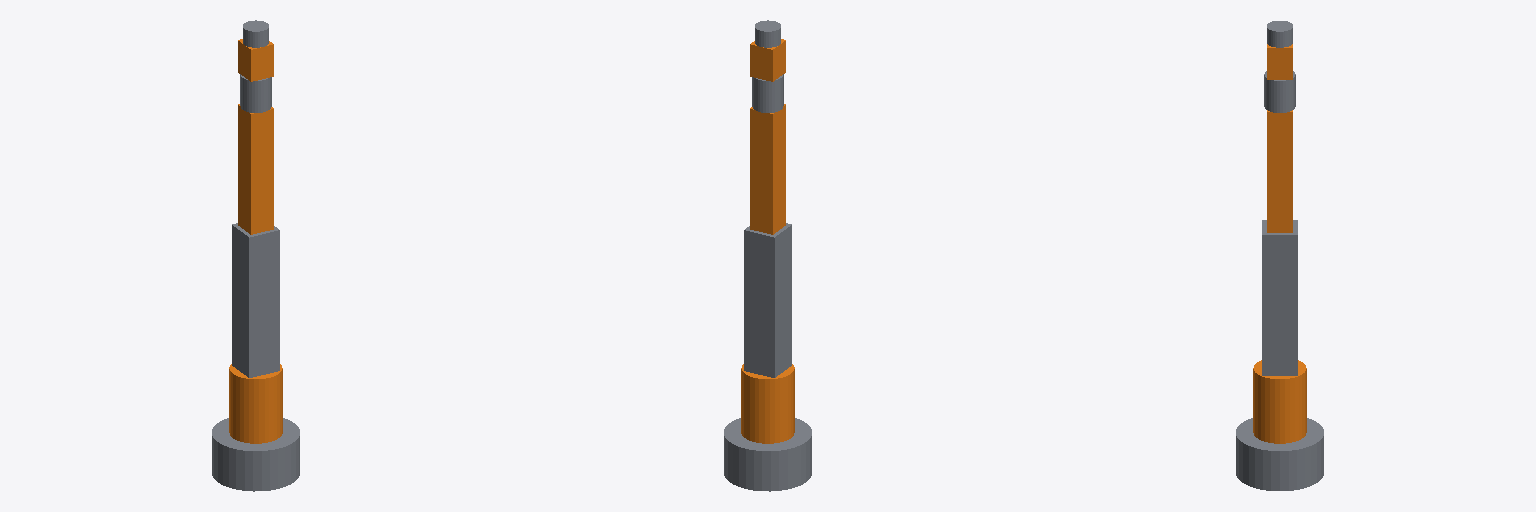
robot.urdf — six_dof_arm:
<?xml version="1.0"?>
<!-- Six-DOF revolute arm (load with "fixed base"). -->
<robot name="six_dof_arm">
  <material name="grey"><color rgba="0.55 0.57 0.60 1"/></material>
  <material name="orange"><color rgba="0.95 0.55 0.15 1"/></material>

  <link name="base_link">
    <inertial><origin xyz="0 0 0.05"/><mass value="5.0"/>
      <inertia ixx="0.02" ixy="0" ixz="0" iyy="0.02" iyz="0" izz="0.03"/></inertial>
    <visual><origin xyz="0 0 0.05"/><geometry><cylinder radius="0.1" length="0.1"/></geometry><material name="grey"/></visual>
    <collision><origin xyz="0 0 0.05"/><geometry><cylinder radius="0.1" length="0.1"/></geometry></collision>
  </link>

  <link name="shoulder_link">
    <inertial><origin xyz="0 0 0.08"/><mass value="2.0"/>
      <inertia ixx="0.006" ixy="0" ixz="0" iyy="0.006" iyz="0" izz="0.004"/></inertial>
    <visual><origin xyz="0 0 0.08"/><geometry><cylinder radius="0.06" length="0.16"/></geometry><material name="orange"/></visual>
    <collision><origin xyz="0 0 0.08"/><geometry><cylinder radius="0.06" length="0.16"/></geometry></collision>
  </link>
  <joint name="joint1" type="revolute">
    <parent link="base_link"/><child link="shoulder_link"/>
    <origin xyz="0 0 0.1"/><axis xyz="0 0 1"/>
    <limit lower="-3.1416" upper="3.1416" effort="80" velocity="2.0"/>
    <dynamics damping="0.5"/>
  </joint>

  <link name="upper_arm_link">
    <inertial><origin xyz="0 0 0.175"/><mass value="2.0"/>
      <inertia ixx="0.022" ixy="0" ixz="0" iyy="0.022" iyz="0" izz="0.002"/></inertial>
    <visual><origin xyz="0 0 0.175"/><geometry><box size="0.08 0.08 0.35"/></geometry><material name="grey"/></visual>
    <collision><origin xyz="0 0 0.175"/><geometry><box size="0.08 0.08 0.35"/></geometry></collision>
  </link>
  <joint name="joint2" type="revolute">
    <parent link="shoulder_link"/><child link="upper_arm_link"/>
    <origin xyz="0 0 0.16"/><axis xyz="0 1 0"/>
    <limit lower="-2.0" upper="2.0" effort="80" velocity="2.0"/>
    <dynamics damping="0.5"/>
  </joint>

  <link name="forearm_link">
    <inertial><origin xyz="0 0 0.15"/><mass value="1.2"/>
      <inertia ixx="0.01" ixy="0" ixz="0" iyy="0.01" iyz="0" izz="0.001"/></inertial>
    <visual><origin xyz="0 0 0.15"/><geometry><box size="0.06 0.06 0.30"/></geometry><material name="orange"/></visual>
    <collision><origin xyz="0 0 0.15"/><geometry><box size="0.06 0.06 0.30"/></geometry></collision>
  </link>
  <joint name="joint3" type="revolute">
    <parent link="upper_arm_link"/><child link="forearm_link"/>
    <origin xyz="0 0 0.35"/><axis xyz="0 1 0"/>
    <limit lower="-2.5" upper="2.5" effort="40" velocity="2.5"/>
    <dynamics damping="0.3"/>
  </joint>

  <link name="wrist_1_link">
    <inertial><origin xyz="0 0 0.04"/><mass value="0.5"/>
      <inertia ixx="0.0005" ixy="0" ixz="0" iyy="0.0005" iyz="0" izz="0.0004"/></inertial>
    <visual><origin xyz="0 0 0.04"/><geometry><cylinder radius="0.035" length="0.08"/></geometry><material name="grey"/></visual>
    <collision><origin xyz="0 0 0.04"/><geometry><cylinder radius="0.035" length="0.08"/></geometry></collision>
  </link>
  <joint name="joint4" type="revolute">
    <parent link="forearm_link"/><child link="wrist_1_link"/>
    <origin xyz="0 0 0.30"/><axis xyz="0 0 1"/>
    <limit lower="-3.1416" upper="3.1416" effort="15" velocity="3.0"/>
    <dynamics damping="0.1"/>
  </joint>

  <link name="wrist_2_link">
    <inertial><origin xyz="0 0 0.04"/><mass value="0.4"/>
      <inertia ixx="0.0004" ixy="0" ixz="0" iyy="0.0004" iyz="0" izz="0.0003"/></inertial>
    <visual><origin xyz="0 0 0.04"/><geometry><box size="0.06 0.06 0.08"/></geometry><material name="orange"/></visual>
    <collision><origin xyz="0 0 0.04"/><geometry><box size="0.06 0.06 0.08"/></geometry></collision>
  </link>
  <joint name="joint5" type="revolute">
    <parent link="wrist_1_link"/><child link="wrist_2_link"/>
    <origin xyz="0 0 0.08"/><axis xyz="0 1 0"/>
    <limit lower="-2.0" upper="2.0" effort="15" velocity="3.0"/>
    <dynamics damping="0.1"/>
  </joint>

  <link name="wrist_3_link">
    <inertial><origin xyz="0 0 0.02"/><mass value="0.2"/>
      <inertia ixx="0.0001" ixy="0" ixz="0" iyy="0.0001" iyz="0" izz="0.0001"/></inertial>
    <visual><origin xyz="0 0 0.02"/><geometry><cylinder radius="0.03" length="0.04"/></geometry><material name="grey"/></visual>
    <collision><origin xyz="0 0 0.02"/><geometry><cylinder radius="0.03" length="0.04"/></geometry></collision>
  </link>
  <joint name="joint6" type="revolute">
    <parent link="wrist_2_link"/><child link="wrist_3_link"/>
    <origin xyz="0 0 0.08"/><axis xyz="0 0 1"/>
    <limit lower="-3.1416" upper="3.1416" effort="10" velocity="4.0"/>
    <dynamics damping="0.05"/>
  </joint>

  <link name="tool0"/>
  <joint name="tool0_joint" type="fixed">
    <parent link="wrist_3_link"/><child link="tool0"/>
    <origin xyz="0 0 0.04"/>
  </joint>
</robot>

--- Render facts (derived) ---
Views: 3 orthographic renders of the robot side by side, from view 1: azimuth 30°, elevation 25°; view 2: azimuth 150°, elevation 25°; view 3: azimuth 270°, elevation 25°.
Model six_dof_arm with 8 links and 7 joints (6 revolute, 1 fixed), rooted at base_link, posed every joint at zero.
Visible links, largest first — view 1: upper_arm_link, base_link, forearm_link, shoulder_link, wrist_2_link, wrist_1_link, wrist_3_link; view 2: upper_arm_link, base_link, forearm_link, shoulder_link, wrist_2_link, wrist_1_link, wrist_3_link; view 3: upper_arm_link, base_link, shoulder_link, forearm_link, wrist_1_link, wrist_2_link, wrist_3_link.
Link boxes in pixels (bbox=[...]): upper_arm_link: bbox=[232, 223, 279, 377]; base_link: bbox=[212, 418, 299, 491]; forearm_link: bbox=[238, 104, 273, 234]; shoulder_link: bbox=[229, 364, 282, 443]; wrist_2_link: bbox=[238, 39, 273, 81]; wrist_1_link: bbox=[240, 74, 271, 112]; wrist_3_link: bbox=[243, 20, 268, 47]; upper_arm_link: bbox=[744, 223, 791, 377]; base_link: bbox=[724, 418, 811, 491]; forearm_link: bbox=[750, 104, 785, 234]; shoulder_link: bbox=[741, 364, 794, 443]; wrist_2_link: bbox=[750, 39, 785, 81]; wrist_1_link: bbox=[752, 74, 783, 112]; wrist_3_link: bbox=[755, 20, 780, 47]; upper_arm_link: bbox=[1262, 220, 1297, 375]; base_link: bbox=[1236, 418, 1323, 490]; shoulder_link: bbox=[1253, 360, 1306, 443]; forearm_link: bbox=[1267, 110, 1292, 232]; wrist_1_link: bbox=[1264, 71, 1295, 112]; wrist_2_link: bbox=[1267, 44, 1292, 79]; wrist_3_link: bbox=[1267, 21, 1292, 47].
Bounding box of the posed robot: 0.2 × 0.2 × 1.11 m (x, y, z).
Geometry: primitives only (box / cylinder / sphere), no mesh files.
